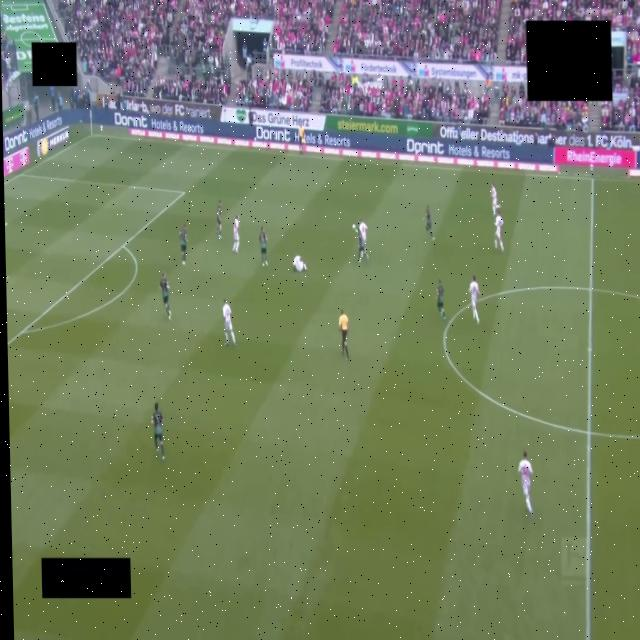ball: (352, 224, 355, 230)
player: (518, 451, 532, 516), (151, 402, 164, 460), (222, 299, 236, 346), (160, 272, 171, 319), (469, 276, 479, 323), (436, 279, 447, 321), (358, 220, 368, 262), (495, 214, 504, 252), (232, 214, 240, 253), (259, 227, 267, 266), (425, 205, 434, 239), (491, 184, 500, 216), (180, 224, 187, 265), (216, 200, 223, 239), (293, 256, 307, 272)
referee: (339, 310, 348, 360)
